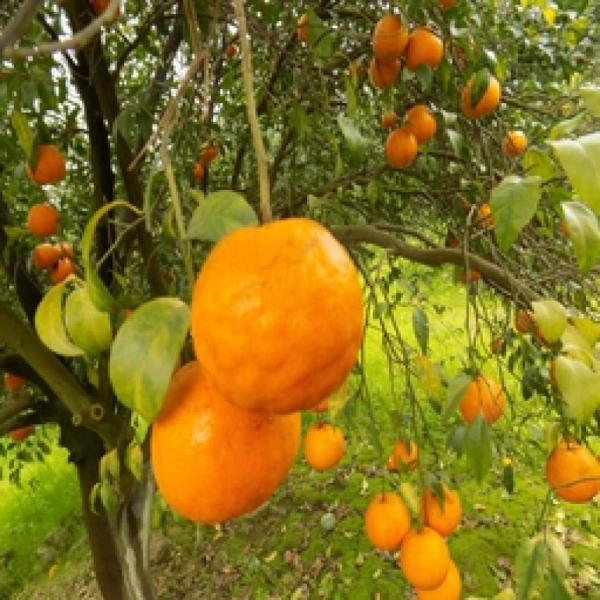Sana: (184, 204, 379, 424), (138, 352, 314, 534), (540, 436, 599, 508), (295, 410, 351, 484), (410, 476, 468, 541), (450, 371, 512, 429), (395, 525, 448, 589), (366, 492, 410, 552), (409, 556, 466, 598), (24, 139, 69, 188), (368, 16, 414, 61), (460, 76, 504, 122), (385, 126, 421, 174), (22, 197, 60, 242), (407, 26, 444, 72), (369, 52, 404, 95), (403, 106, 440, 143), (390, 437, 420, 472), (506, 127, 532, 162), (32, 242, 62, 268), (51, 258, 75, 282), (57, 240, 76, 264), (385, 452, 399, 479)
